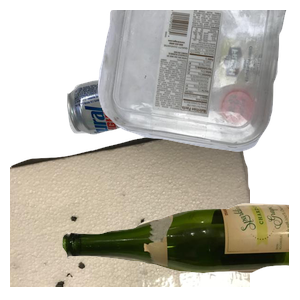glass: (60, 201, 300, 300)
metal: (65, 65, 231, 192)
plastic: (95, 10, 300, 154)
trash: (10, 120, 250, 300)
